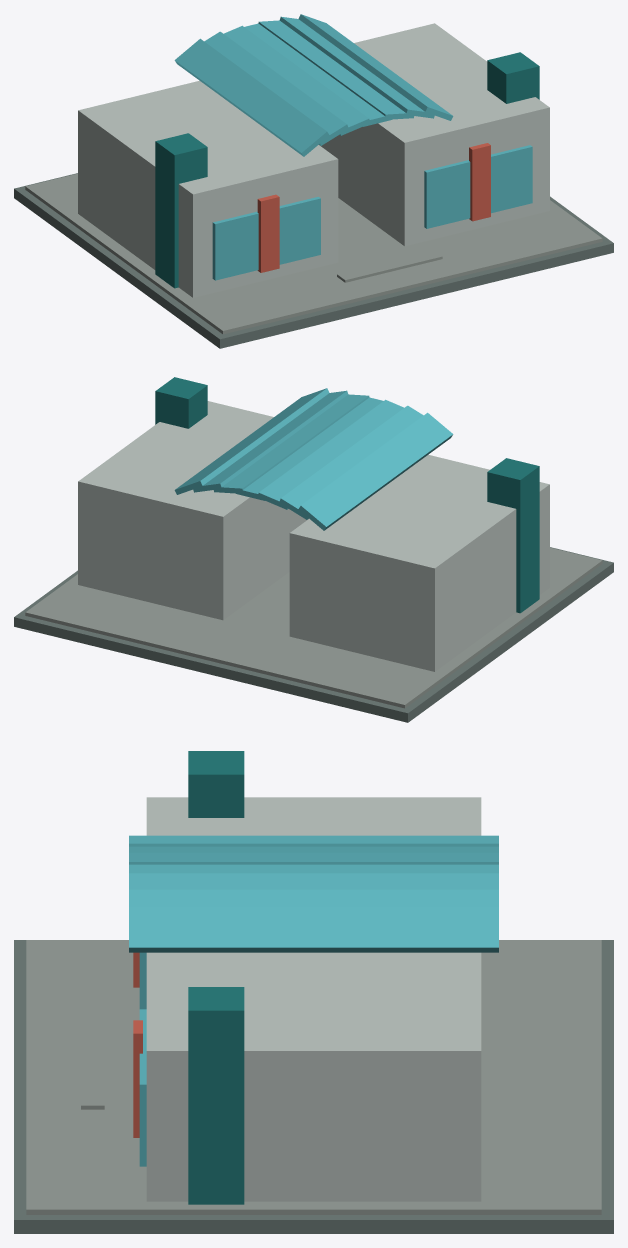
The model's file is metro_station_lv2.glb.
The picture shows the model from 3 angles, top to bottom: view 1: azimuth 30°, elevation 25°; view 2: azimuth 150°, elevation 25°; view 3: azimuth 270°, elevation 25°; orthographic projection. The views are drawn at different scales.
Parts seen in each view (by area): view 1: rough, glossy; view 2: rough, glossy; view 3: rough, glossy.
Part boxes in pixels (x1,y1,x2,y2): rough: (14,23,613,348); glossy: (174,14,532,280); rough: (14,377,613,722); glossy: (174,388,453,530); rough: (14,751,613,1233); glossy: (129,835,498,1166).
Bounding box in the file's own units: 9.5 × 3.58 × 8.6.
